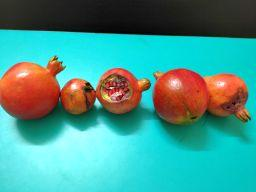pomegranate: (0, 56, 60, 121), (151, 68, 209, 125), (96, 68, 151, 115), (204, 73, 252, 124), (60, 79, 96, 116)
